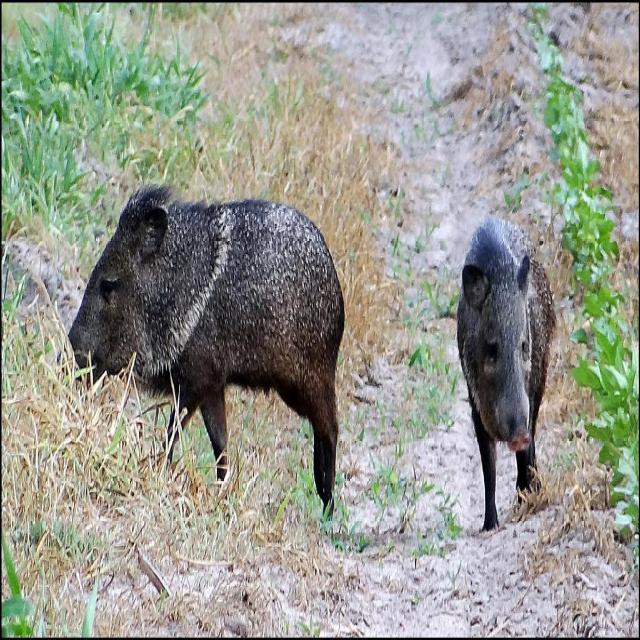Pig: (52, 182, 345, 521), (456, 216, 557, 532)
